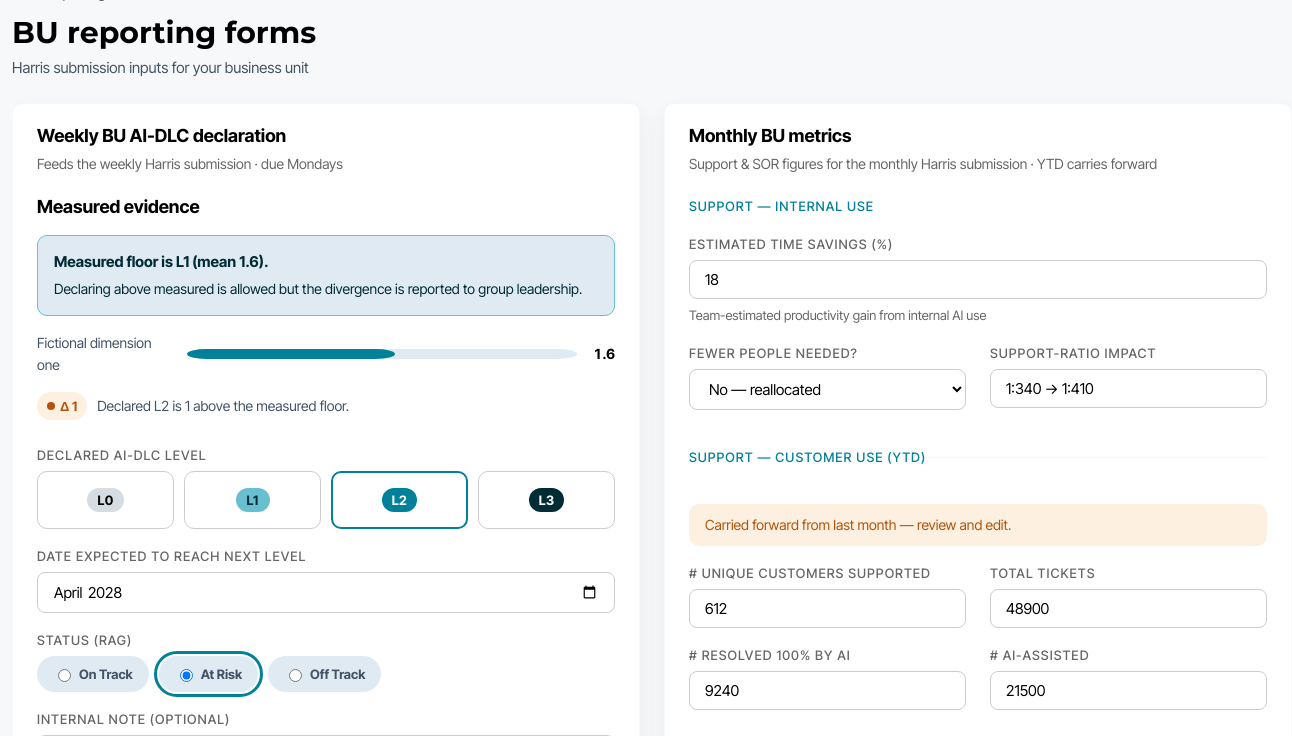
BuFormsScreen (HAP-15; FR-047/FR-048; bu-forms mockup) › posts a weekly declaration on the happy path and shows it in the history
Expected: the heading "BU reporting forms" is shown, [12, 14, 316, 51]
Click the radio button labelled "L3".
click(546, 500)  # box [478, 471, 615, 529]
(page scrolled)
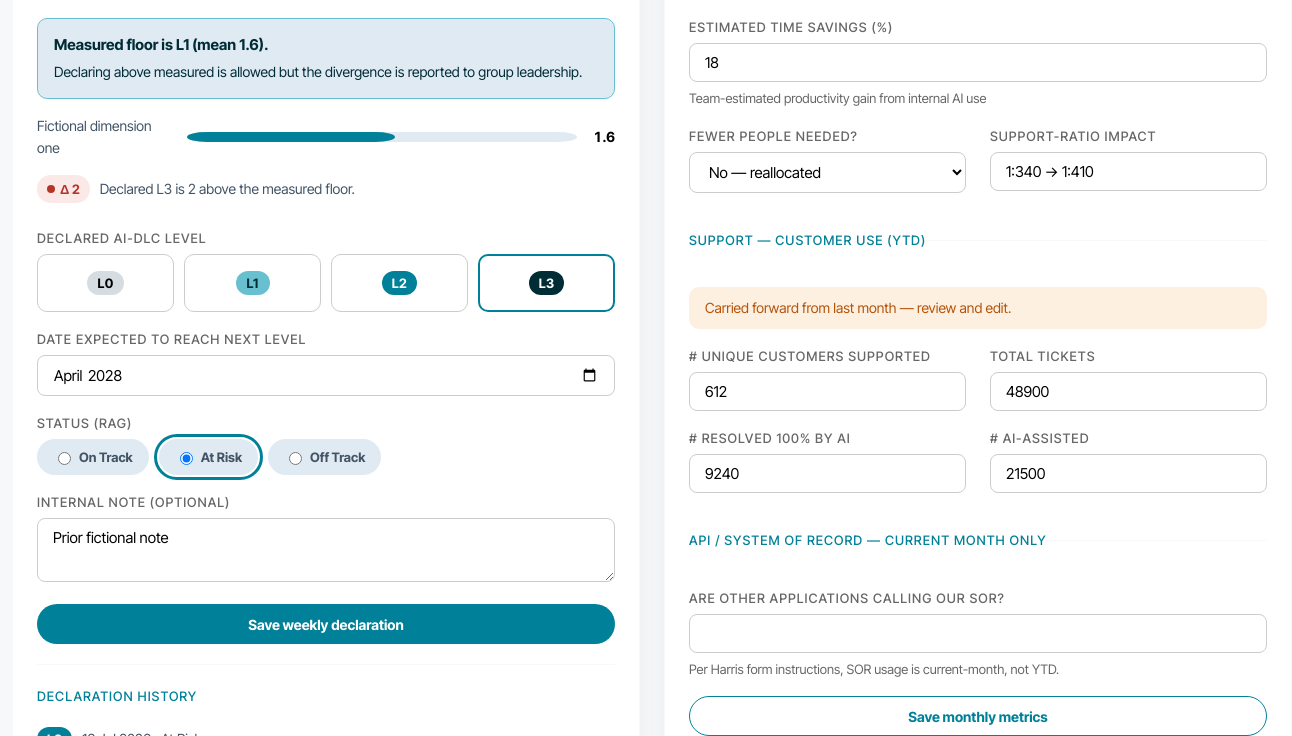
Click the button "Save weekly declaration".
click(326, 624)  # box [37, 604, 615, 644]
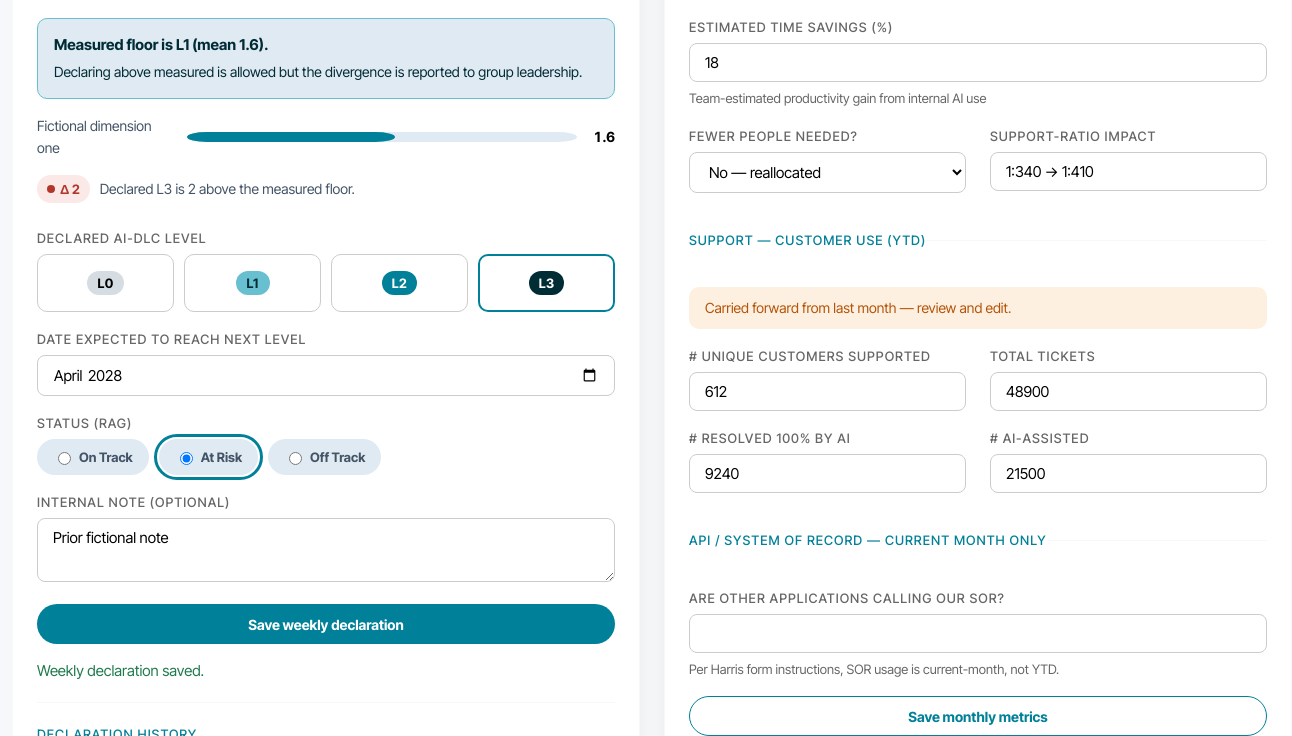
Expected: the text "L3" in the row of "L0" is shown, [539, 275, 554, 291]
Expected: the text "Weekly declaration saved." is shown, [37, 661, 204, 680]
